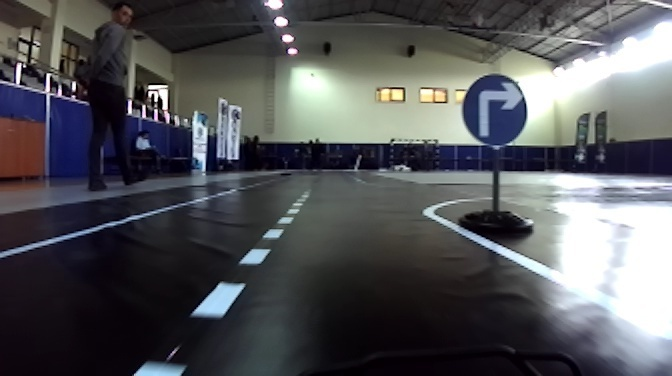saga_donus: (461, 76, 528, 145)
